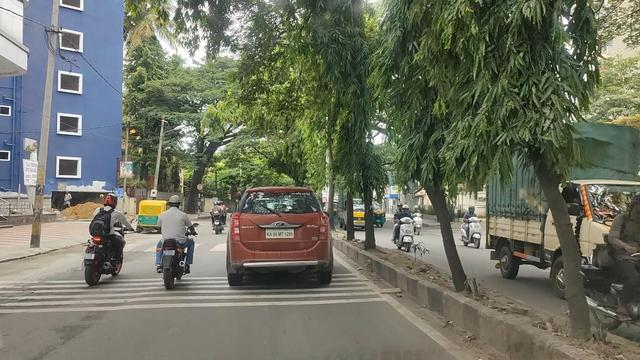LMV: (232, 184, 328, 284), (87, 195, 122, 276), (160, 197, 188, 286)
SpeedBump: (24, 278, 224, 308)
